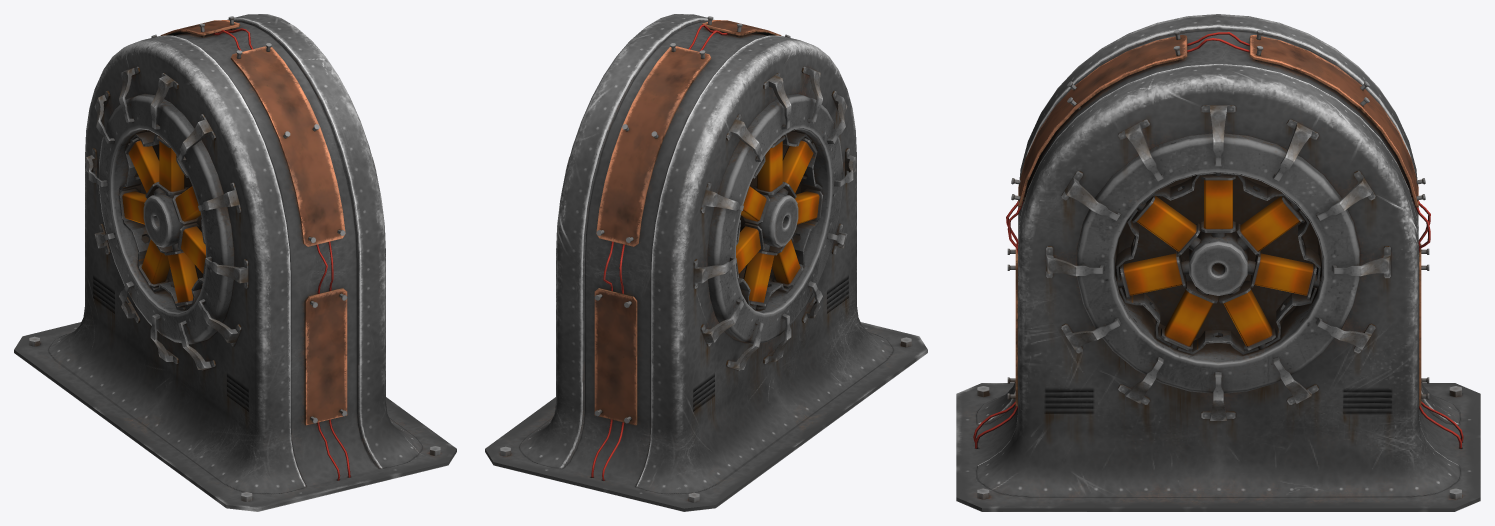
The model's file is ElectricThing.FBX.
3 renders of one model, left to right at view 1: azimuth 30°, elevation 25°; view 2: azimuth 150°, elevation 25°; view 3: azimuth 270°, elevation 25°, orthographic. The views are drawn at different scales.
Parts seen in each view (by area): view 1: Object001; view 2: Object001; view 3: Object001.
Boxes of the visible parts, x1,y1,x2,y2 form: Object001: (14, 14, 456, 511); Object001: (485, 14, 927, 511); Object001: (956, 14, 1480, 511).
Size of the model in its own units: 39.55 by 69.91 by 61.17.
Materials: 1 (1 with a texture image).
